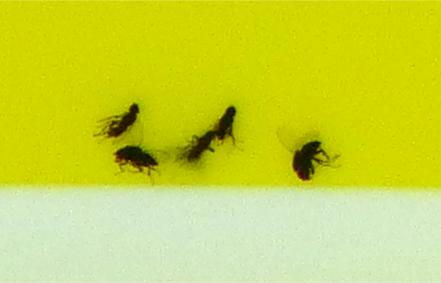Brachycera: (286, 128, 341, 183), (100, 100, 142, 138), (109, 144, 161, 173), (211, 102, 240, 145), (186, 126, 216, 166)
